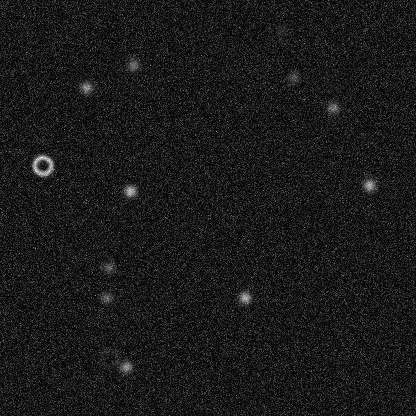Ring: (30, 153, 54, 177), (97, 345, 121, 369)
Spot: (98, 289, 114, 305), (122, 183, 138, 199), (273, 22, 289, 38), (118, 358, 134, 374), (285, 69, 301, 85), (324, 99, 340, 115), (100, 259, 116, 275), (236, 289, 252, 305), (78, 79, 94, 95), (361, 177, 377, 193), (125, 56, 141, 72)
